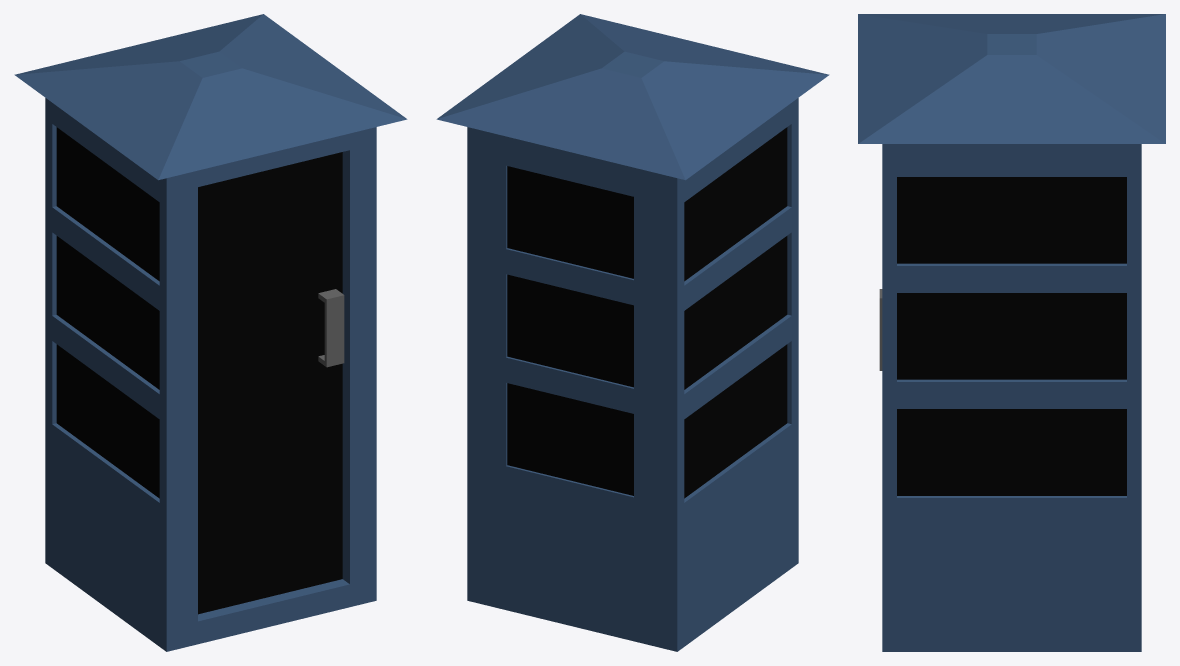
File: scene_Xo5YBafouJ.glb
3 renders of one model, left to right at view 1: azimuth 30°, elevation 25°; view 2: azimuth 150°, elevation 25°; view 3: azimuth 270°, elevation 25°, orthographic. The views are drawn at different scales.
Visible parts, largest first — view 1: PhoneBooth_01_Cube.001; view 2: PhoneBooth_01_Cube.001; view 3: PhoneBooth_01_Cube.001.
Part boxes in pixels (x1=…): PhoneBooth_01_Cube.001: x1=14, y1=14, x2=407, y2=651; PhoneBooth_01_Cube.001: x1=436, y1=14, x2=829, y2=651; PhoneBooth_01_Cube.001: x1=858, y1=14, x2=1165, y2=651.
Bounding box in the file's own units: 7.68 × 15.21 × 7.68.
